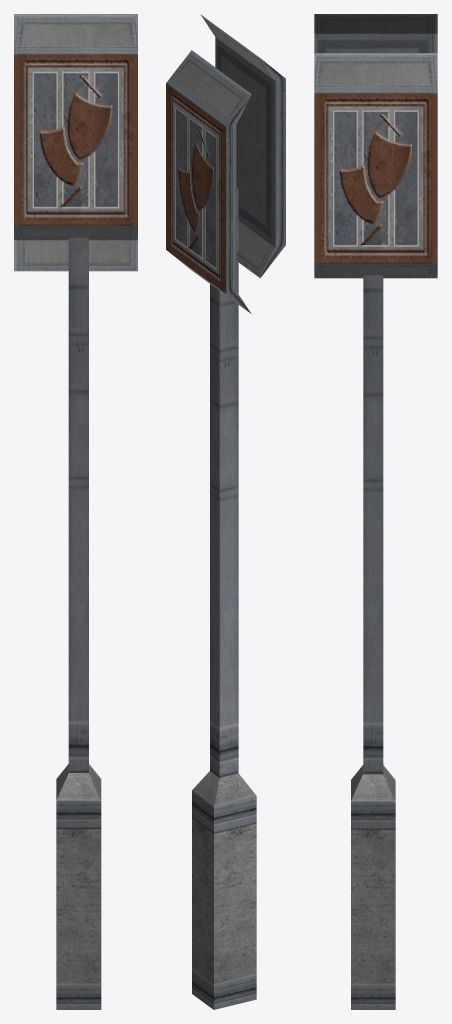
The model's file is thm_sign_all_standing_l1.fbx.
The picture shows the model from 3 angles, left to right: view 1: azimuth 90°, elevation 25°; view 2: azimuth 210°, elevation 25°; view 3: azimuth 270°, elevation 25°; orthographic projection. The views are drawn at different scales.
Visible parts, largest first — view 1: mesh_node; view 2: mesh_node; view 3: mesh_node.
Part boxes in pixels (<box>): mesh_node: <box>14,14,137,1009</box>; mesh_node: <box>166,14,285,1009</box>; mesh_node: <box>314,14,437,1009</box>.
Bounding box in the file's own units: 0.3244 × 5 × 0.5677.
2 materials, 2 textured.
